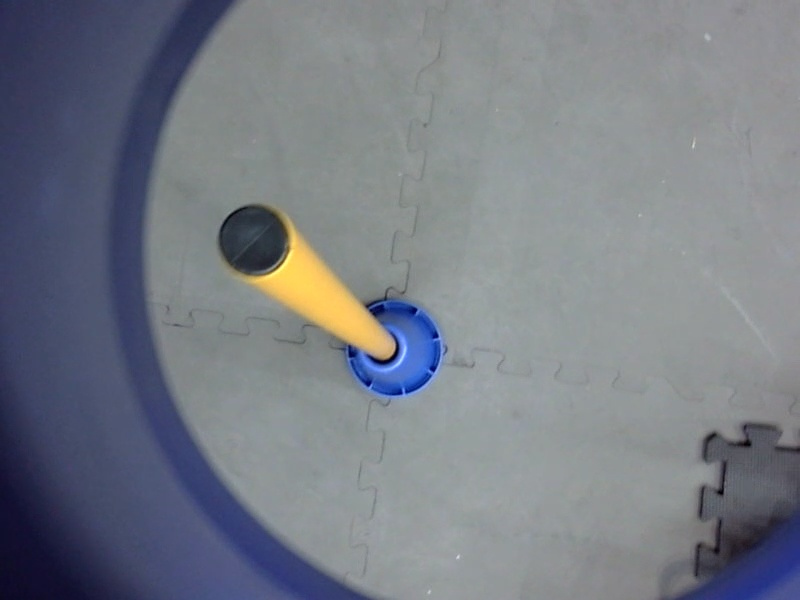tip: (209, 198, 301, 286)
